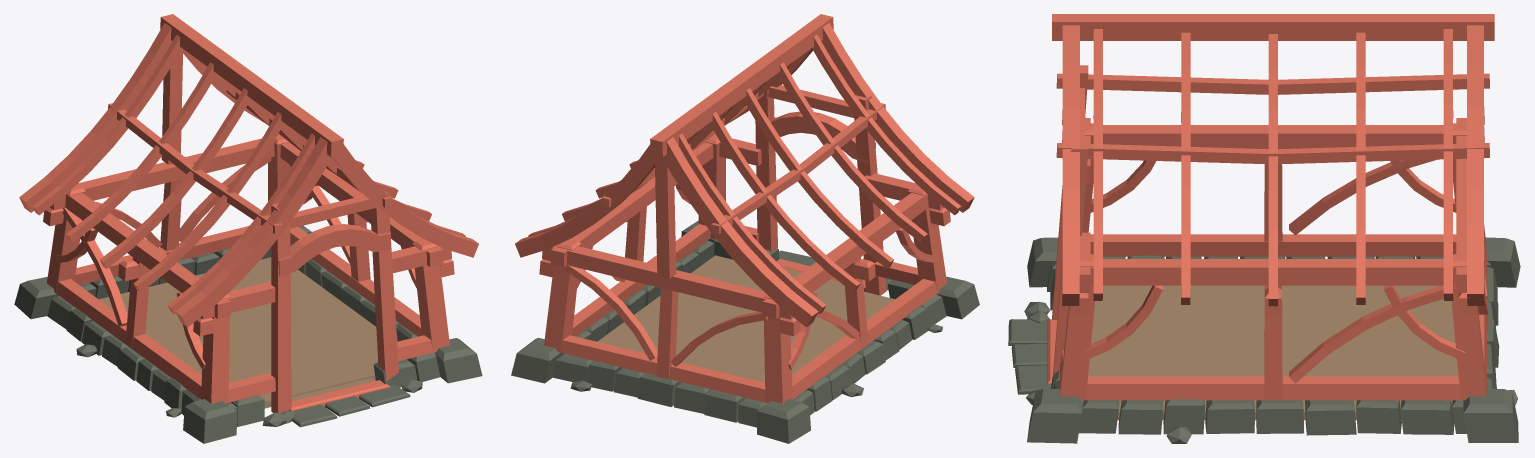
Rendered from cattle-shelter-frame.glb.
3 renders of one model, left to right at view 1: azimuth 30°, elevation 25°; view 2: azimuth 150°, elevation 25°; view 3: azimuth 270°, elevation 25°, orthographic. The views are drawn at different scales.
Visible parts, largest first — view 1: timber_frame, stone_footing, floor; view 2: timber_frame, stone_footing, floor; view 3: timber_frame, floor, stone_footing.
Boxes of the visible parts, x1,y1,x2,y2 form: timber_frame: (19,14,478,413); stone_footing: (14,225,482,443); floor: (99,257,377,408); timber_frame: (515,14,974,403); stone_footing: (511,220,979,443); floor: (597,255,894,382); timber_frame: (1047,14,1494,400); floor: (1088,285,1458,420); stone_footing: (1008,237,1520,443).
Size of the model in its own units: 6.23 by 5.24 by 7.17.
